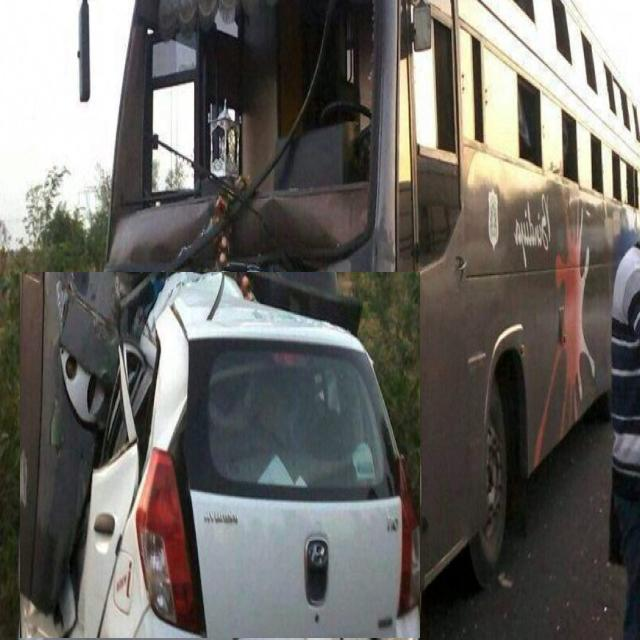accident: (90, 0, 640, 612), (20, 273, 420, 638)
